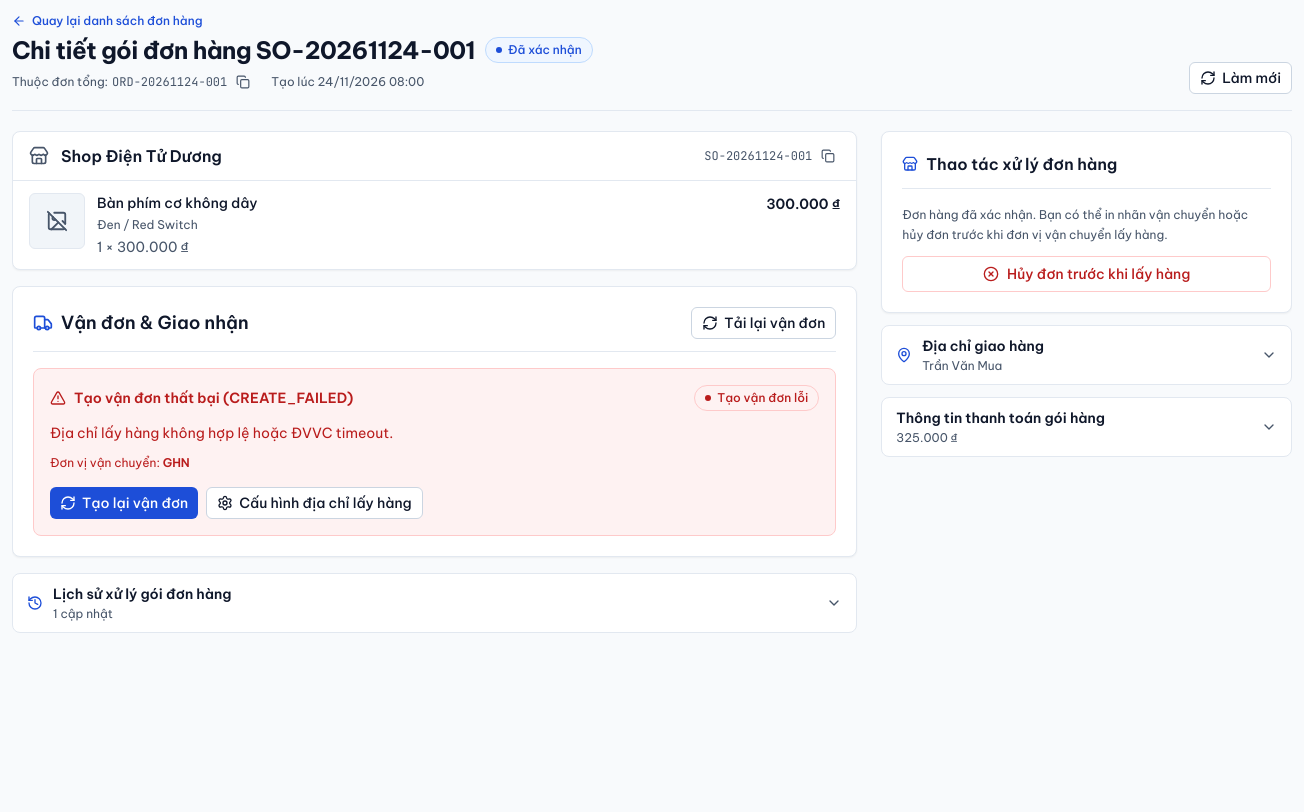
Scenario: T4-08: Seller Order Detail (/seller/orders/:id) › retries a CREATE_FAILED shipment and shows HTTP 422 pickup alert if retry returns 422
Expected: the text "Tạo vận đơn thất bại (CREATE_FAILED)" is shown, [74,388,353,408]
Expected: the text "Địa chỉ lấy hàng không hợp lệ hoặc ĐVVC timeout." is shown, [50,424,393,442]
Click the button "Tạo lại vận đơn".
click(124, 503)  # box [50,487,198,519]
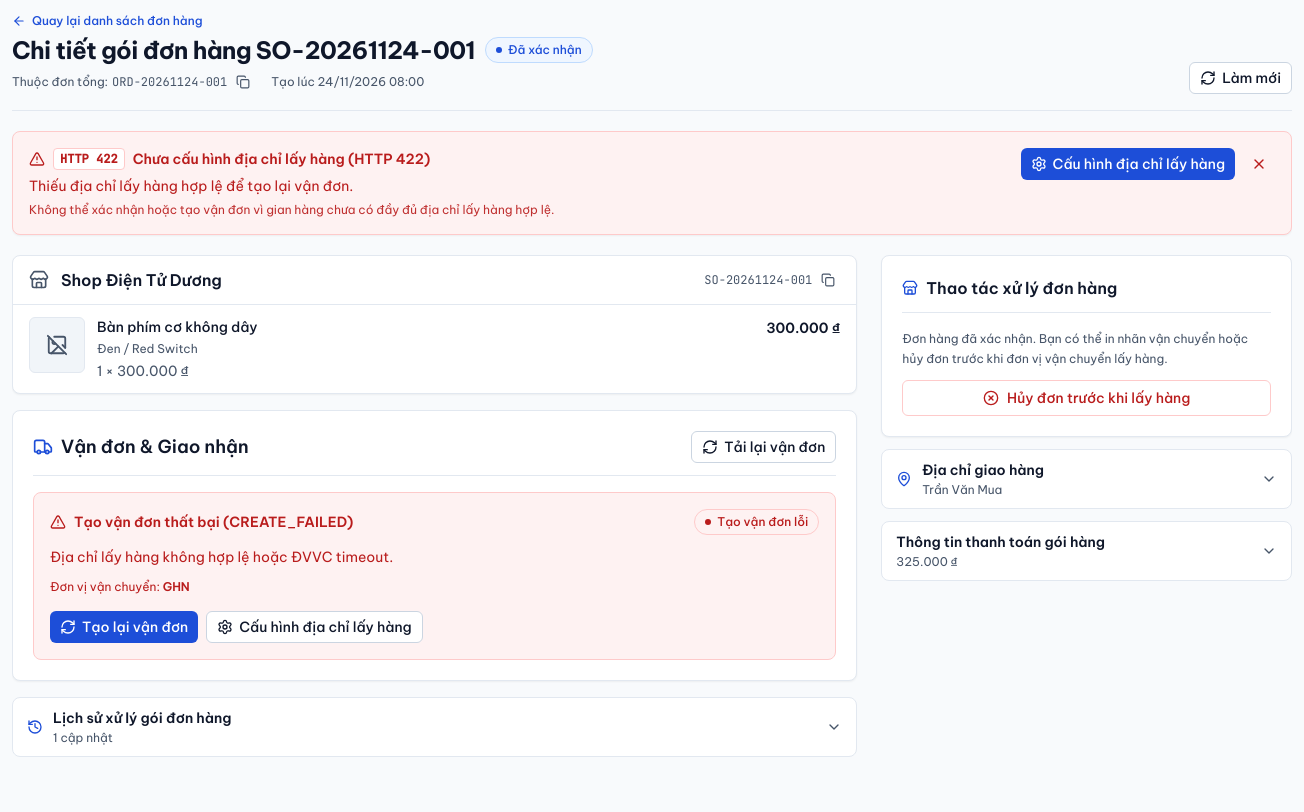
Expected: the text "Chưa cấu hình địa chỉ lấy hàng (HTTP 422)" is shown, [133,150,430,168]
Click the button "Tạo lại vận đơn".
click(124, 627)  # box [50,611,198,643]
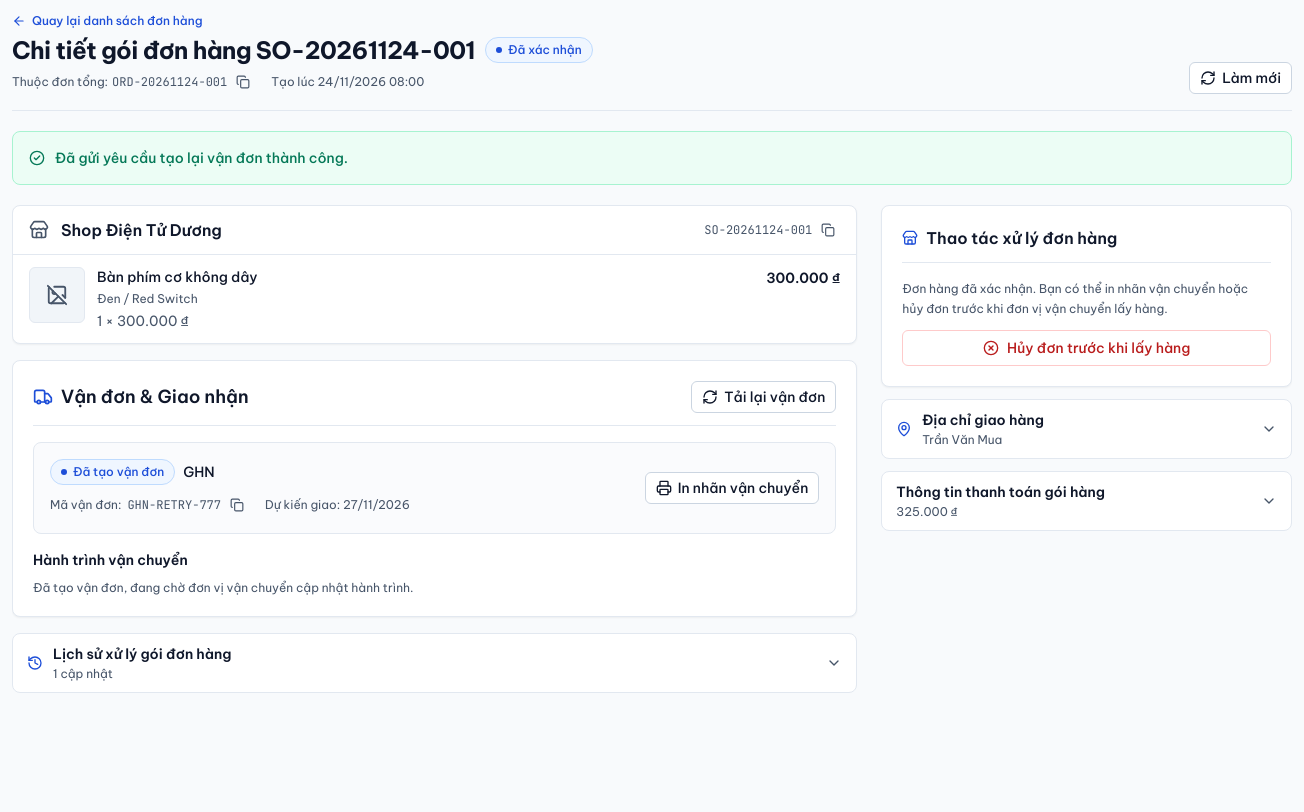
Expected: the text "GHN-RETRY-777" is shown, [127,497,221,513]
Expected: the button "In nhãn vận chuyển" is shown, [645,472,819,504]
